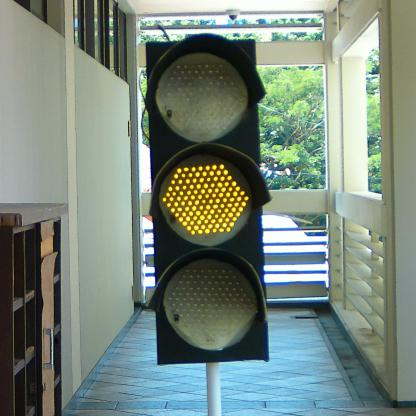yellow: (142, 35, 270, 365)
